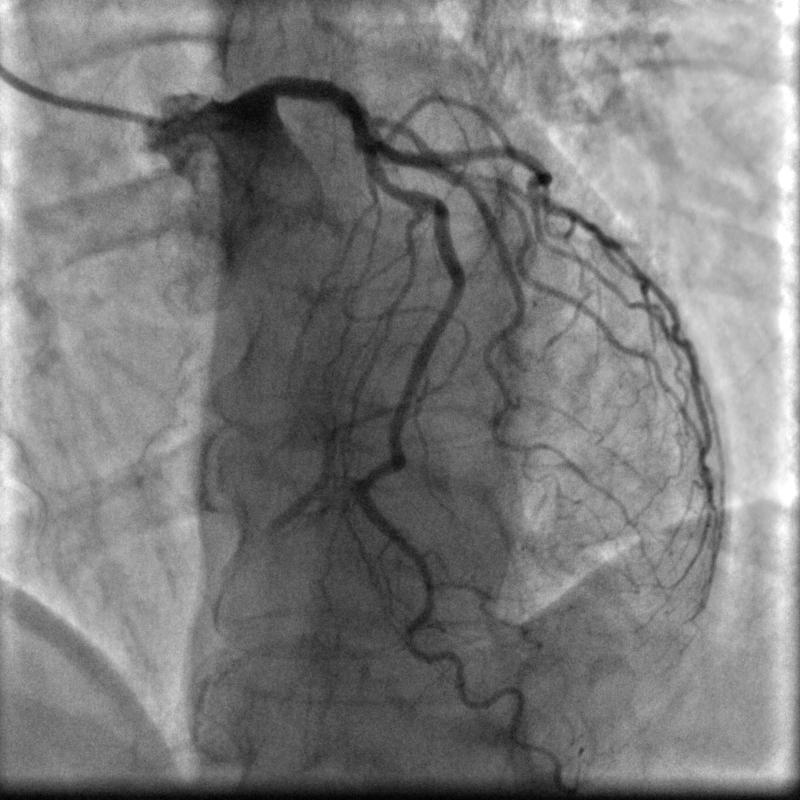Stenosis: (373, 171, 407, 202)
